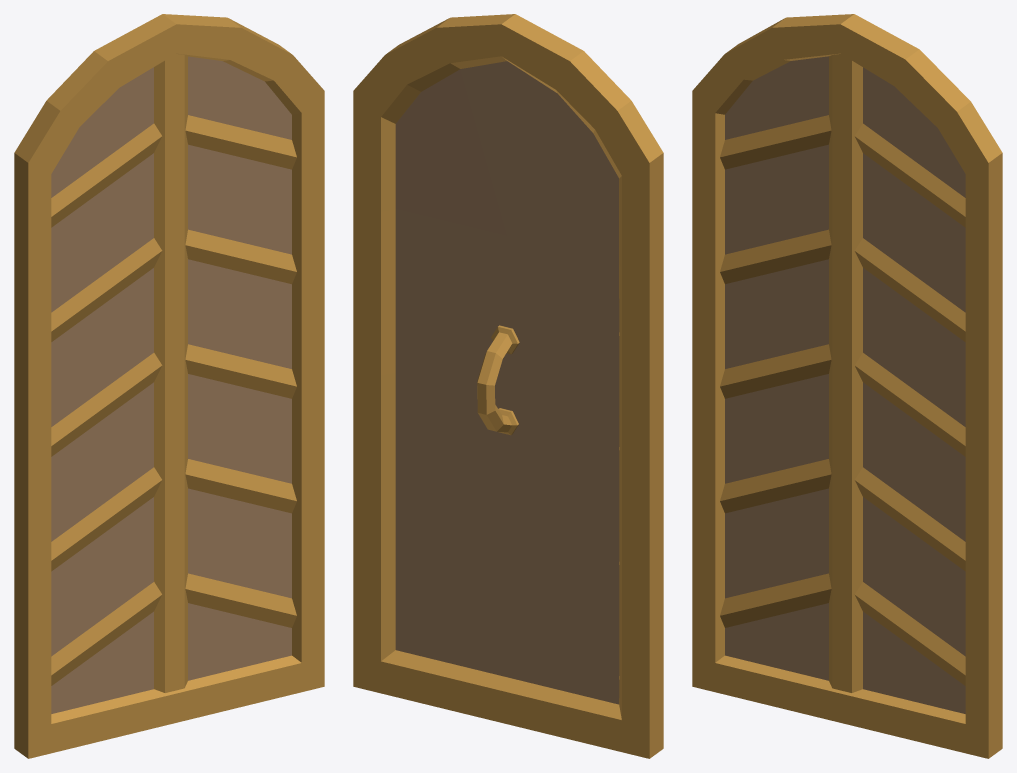
File: SM_pwe_china_shield_02.fbx
3 views of the same model, side by side, from view 1: azimuth 30°, elevation 25°; view 2: azimuth 150°, elevation 25°; view 3: azimuth 330°, elevation 25° (orthographic).
Parts seen in each view (by area): view 1: SM_pwe_china_shield_02; view 2: SM_pwe_china_shield_02; view 3: SM_pwe_china_shield_02.
Boxes of the visible parts, box(x1,y1,x2,y2) form: SM_pwe_china_shield_02: box(14, 14, 324, 758); SM_pwe_china_shield_02: box(353, 14, 663, 758); SM_pwe_china_shield_02: box(692, 14, 1002, 758).
Bounding box in the file's own units: 54.09 × 122 × 10.3.
